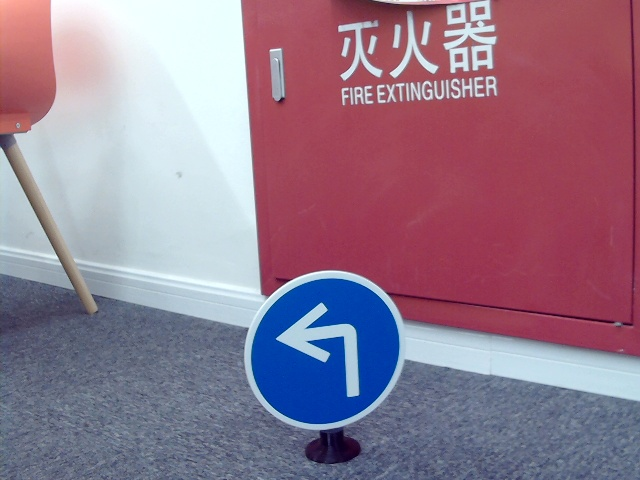turn_left: (273, 298, 369, 403)
